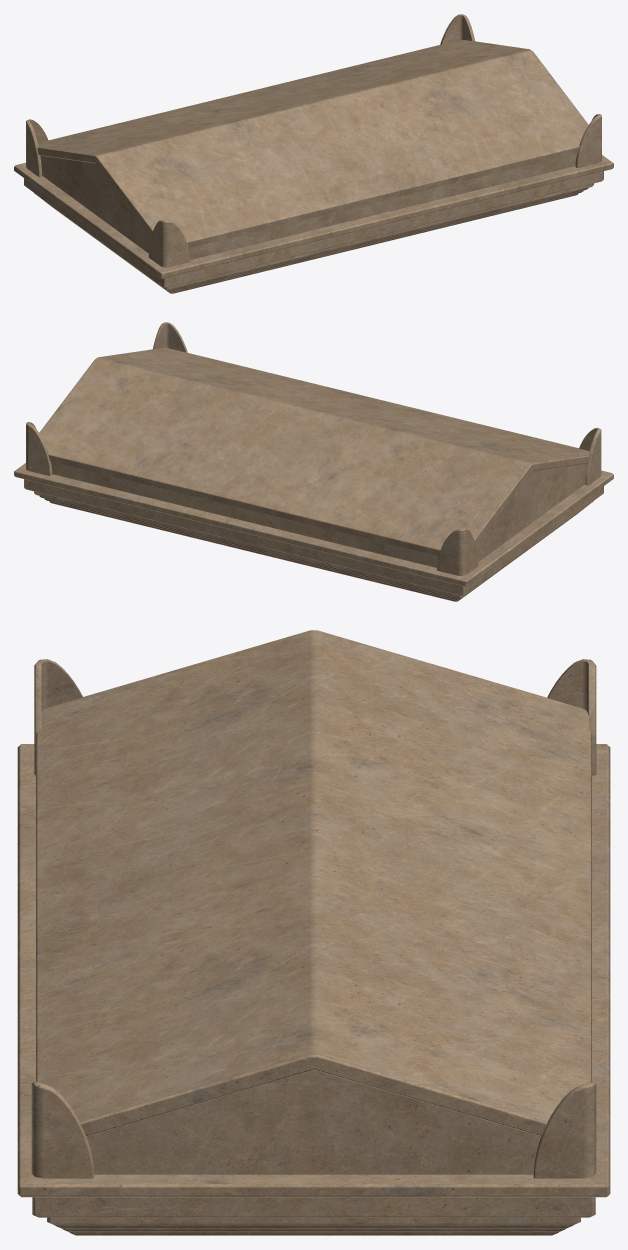
Rendered from SM_MausoleumRoofA.fbx.
The picture shows the model from 3 angles, top to bottom: view 1: azimuth 30°, elevation 25°; view 2: azimuth 150°, elevation 25°; view 3: azimuth 270°, elevation 25°; orthographic projection. The views are drawn at different scales.
Parts seen in each view (by area): view 1: SM_MausoleumRoofA_LOD0; view 2: SM_MausoleumRoofA_LOD0; view 3: SM_MausoleumRoofA_LOD0.
Boxes of the visible parts, x1,y1,x2,y2 form: SM_MausoleumRoofA_LOD0: (14,14,613,293); SM_MausoleumRoofA_LOD0: (14,322,613,601); SM_MausoleumRoofA_LOD0: (17,630,610,1235).
Size of the model in its own units: 330 by 187 by 67.67.
Materials: 1 (1 with a texture image).
